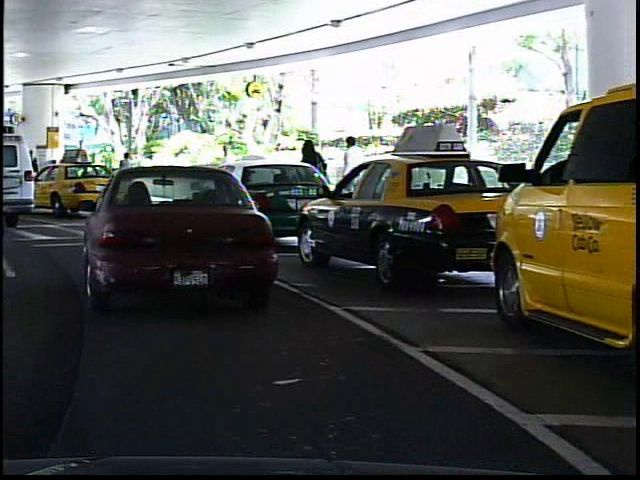person: (293, 134, 328, 229), (335, 130, 367, 223), (213, 139, 240, 204), (111, 146, 137, 198)
